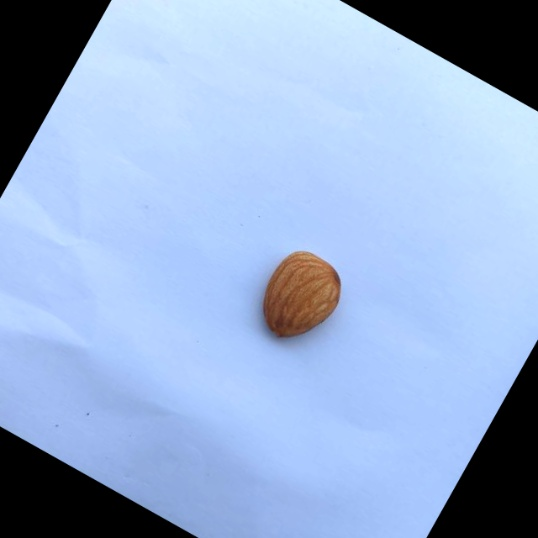grade1: (236, 232, 361, 363)
